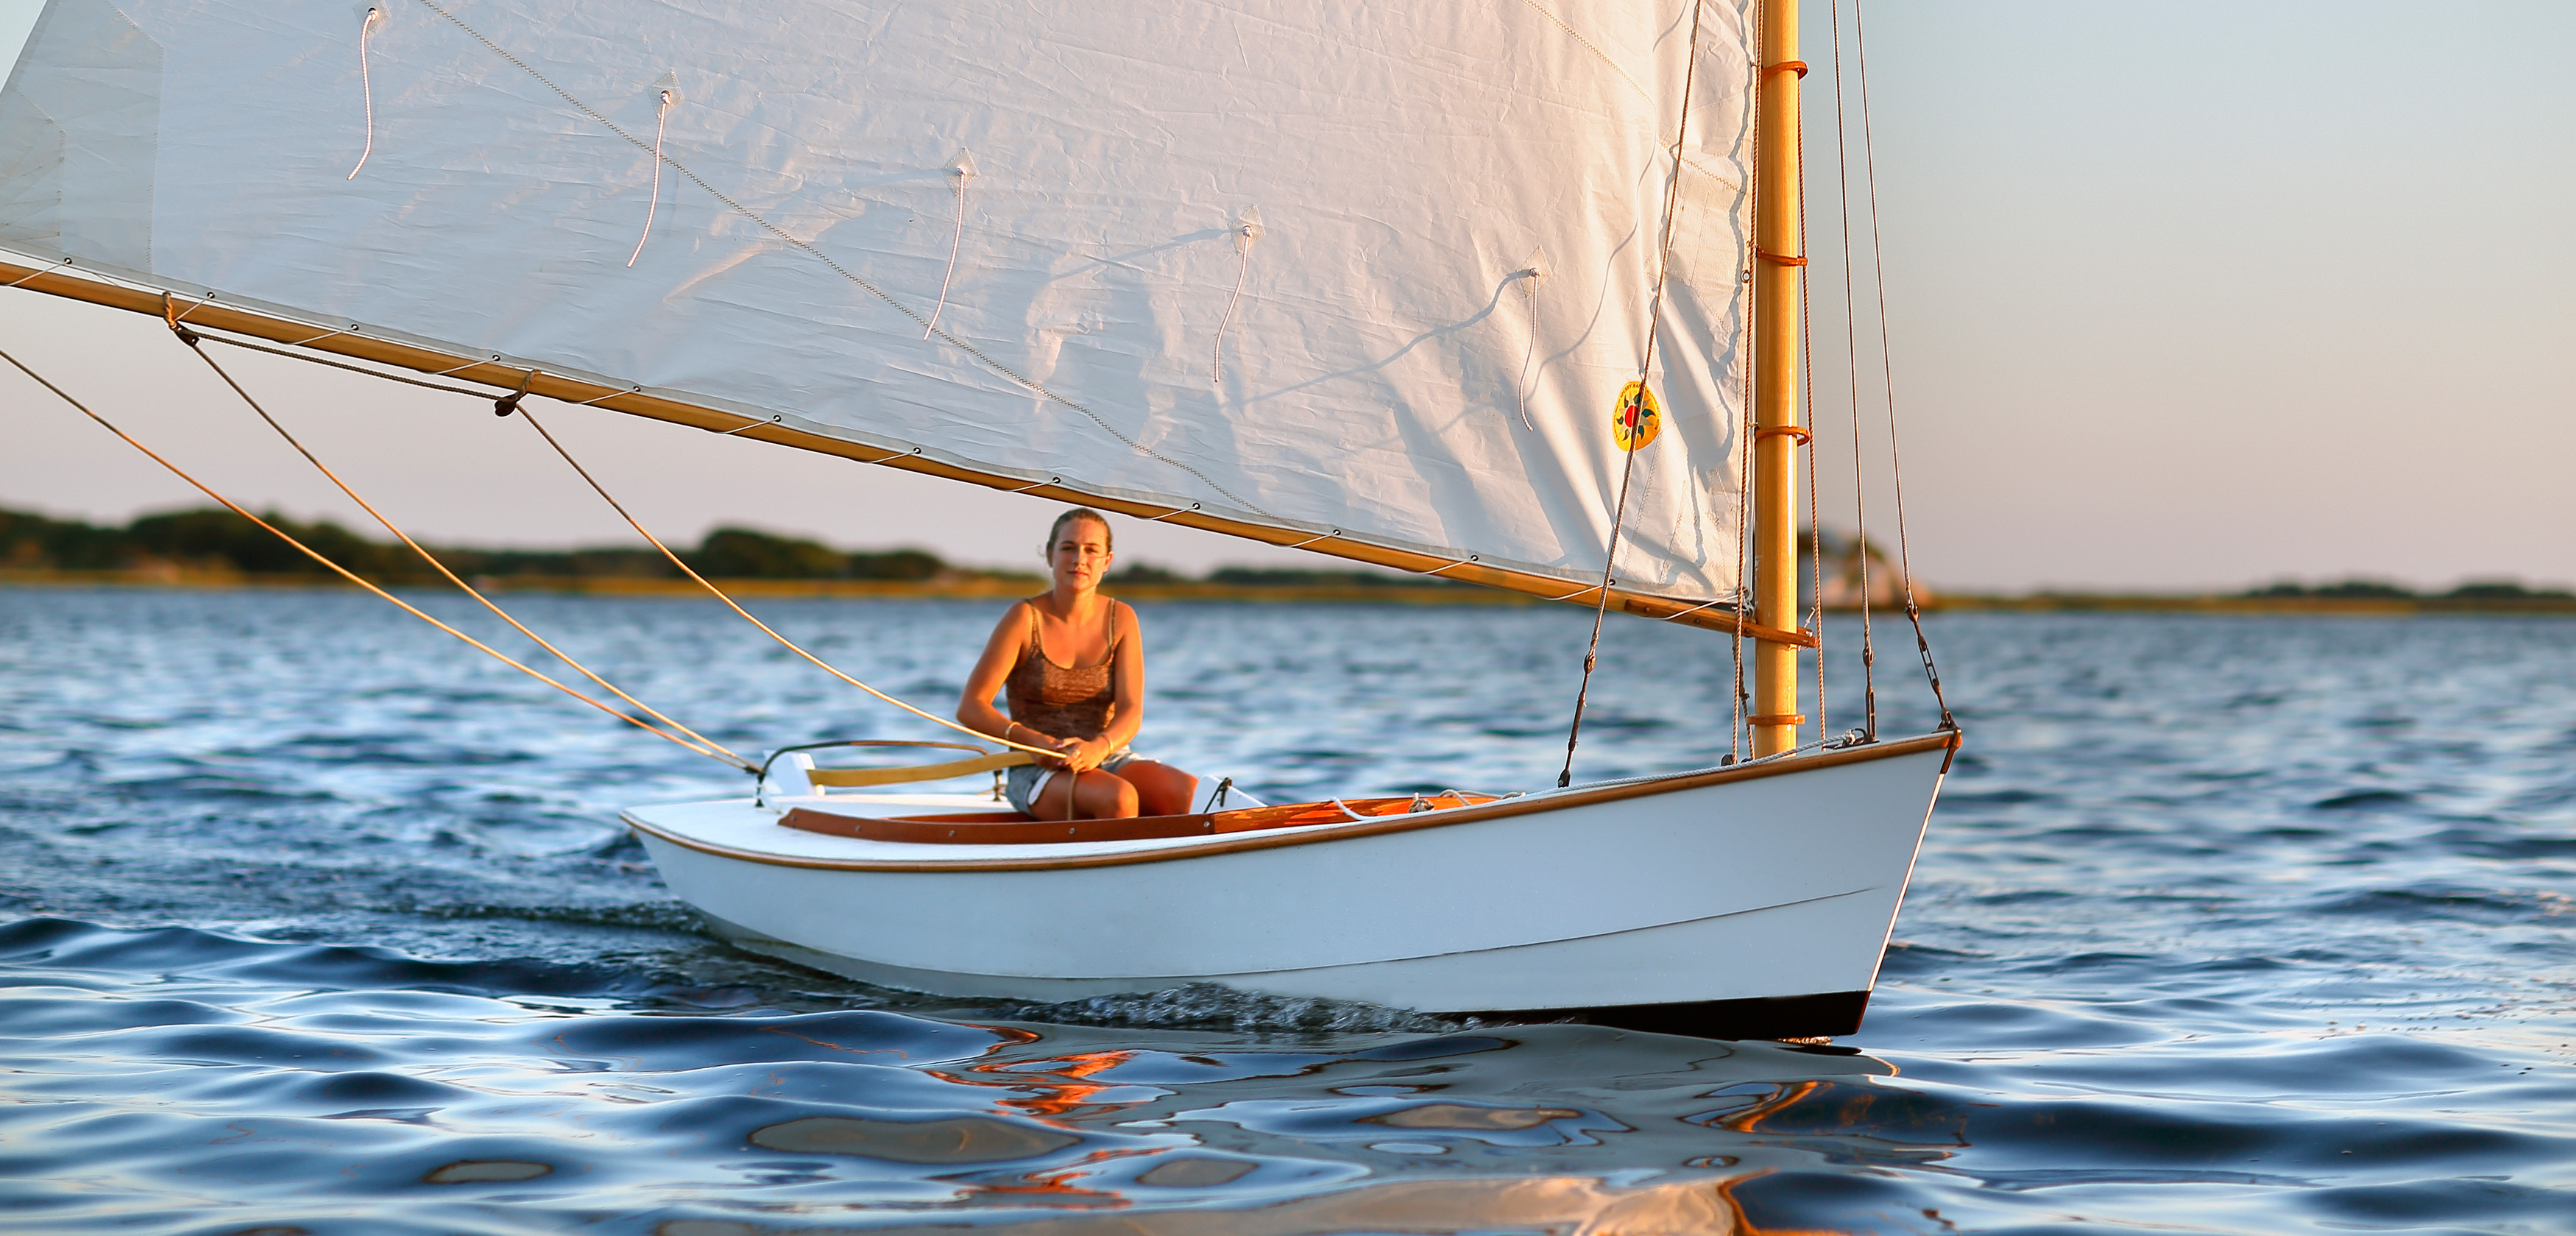boat: (7, 11, 1974, 1053)
person: (958, 503, 1203, 818)
